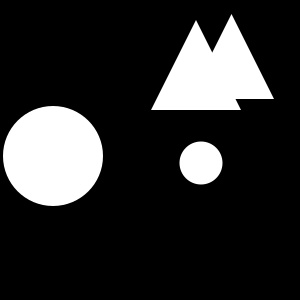rectangle: (3, 106, 103, 206), (180, 142, 222, 184)
triangle: (151, 20, 241, 110), (189, 14, 274, 99)
